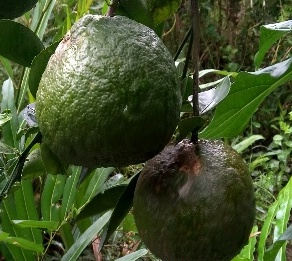Cam: (34, 12, 184, 166), (135, 137, 256, 261)
